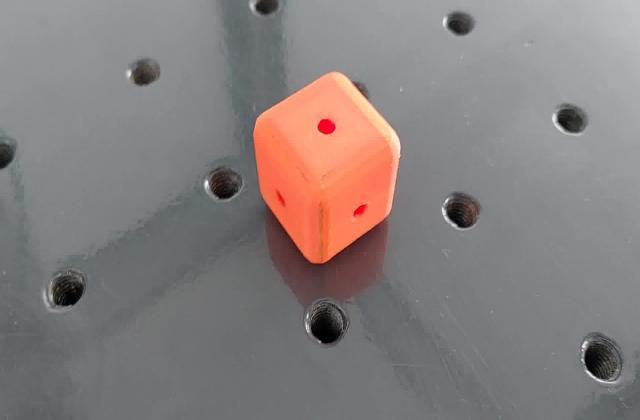cube: (252, 70, 403, 268)
